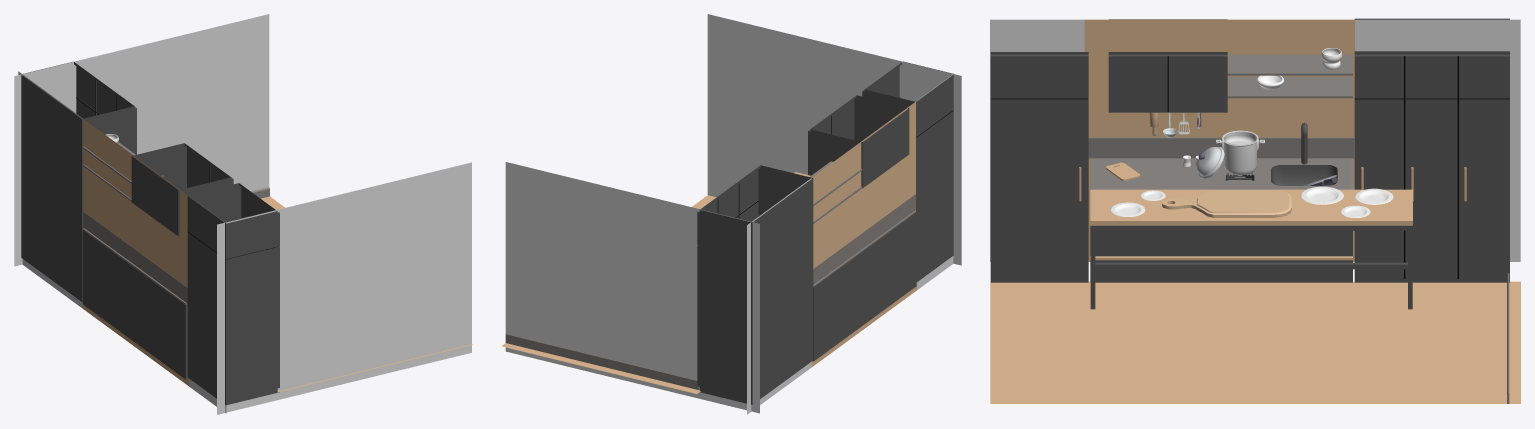
Rendered from kitchen.glb.
3 renders of one model, left to right at view 1: azimuth 30°, elevation 25°; view 2: azimuth 150°, elevation 25°; view 3: azimuth 270°, elevation 25°, orthographic. The views are drawn at different scales.
Visible parts, largest first — view 1: ROOM, fridge, cupboard_big, cupboard_down, cupboard_up, board; view 2: ROOM, cupboard_big, cupboard_down, fridge, cupboard_up, baseboard, board; view 3: ROOM, cupboard_big, fridge, cupboard_down, Cube.001, cupboard_up, board, board__0.001, shelf_up, shelf_down, Retopo_pan__0.003, pot lid__0.001 (+2 smaller).
Part boxes in pixels (left/top/right/bottom): ROOM: left=14, top=14, right=472, bottom=414; fridge: left=187, top=183, right=279, bottom=405; cupboard_big: left=21, top=61, right=136, bottom=301; cupboard_down: left=82, top=228, right=187, bottom=379; cupboard_up: left=131, top=143, right=233, bottom=236; board: left=83, top=211, right=187, bottom=303; ROOM: left=501, top=14, right=961, bottom=414; cupboard_big: left=697, top=165, right=813, bottom=404; cupboard_down: left=812, top=210, right=916, bottom=361; fridge: left=862, top=61, right=953, bottom=281; cupboard_up: left=808, top=95, right=909, bottom=188; baseboard: left=505, top=334, right=698, bottom=389; board: left=813, top=194, right=915, bottom=284; ROOM: left=990, top=19, right=1520, bottom=403; cupboard_big: left=1354, top=18, right=1509, bottom=282; fridge: left=990, top=52, right=1088, bottom=282; cupboard_down: left=1090, top=158, right=1352, bottom=282; Cube.001: left=1090, top=189, right=1412, bottom=309; cupboard_up: left=1108, top=19, right=1227, bottom=112; board: left=1088, top=137, right=1354, bottom=158; board__0.001: left=1162, top=189, right=1291, bottom=217; shelf_up: left=1227, top=54, right=1352, bottom=75; shelf_down: left=1227, top=77, right=1352, bottom=98; Retopo_pan__0.003: left=1216, top=130, right=1264, bottom=175; pot lid__0.001: left=1196, top=147, right=1224, bottom=178.
Size of the model in its own units: 6.01 by 4.29 by 8.5.
